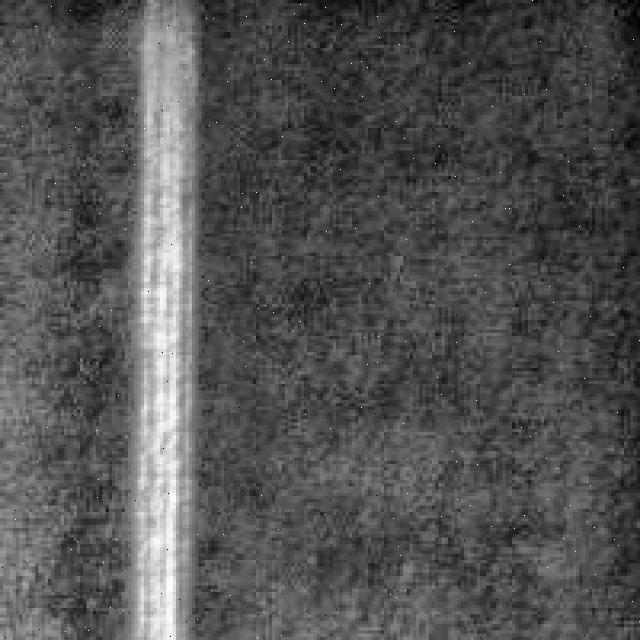Inclusion: (118, 29, 196, 634)
